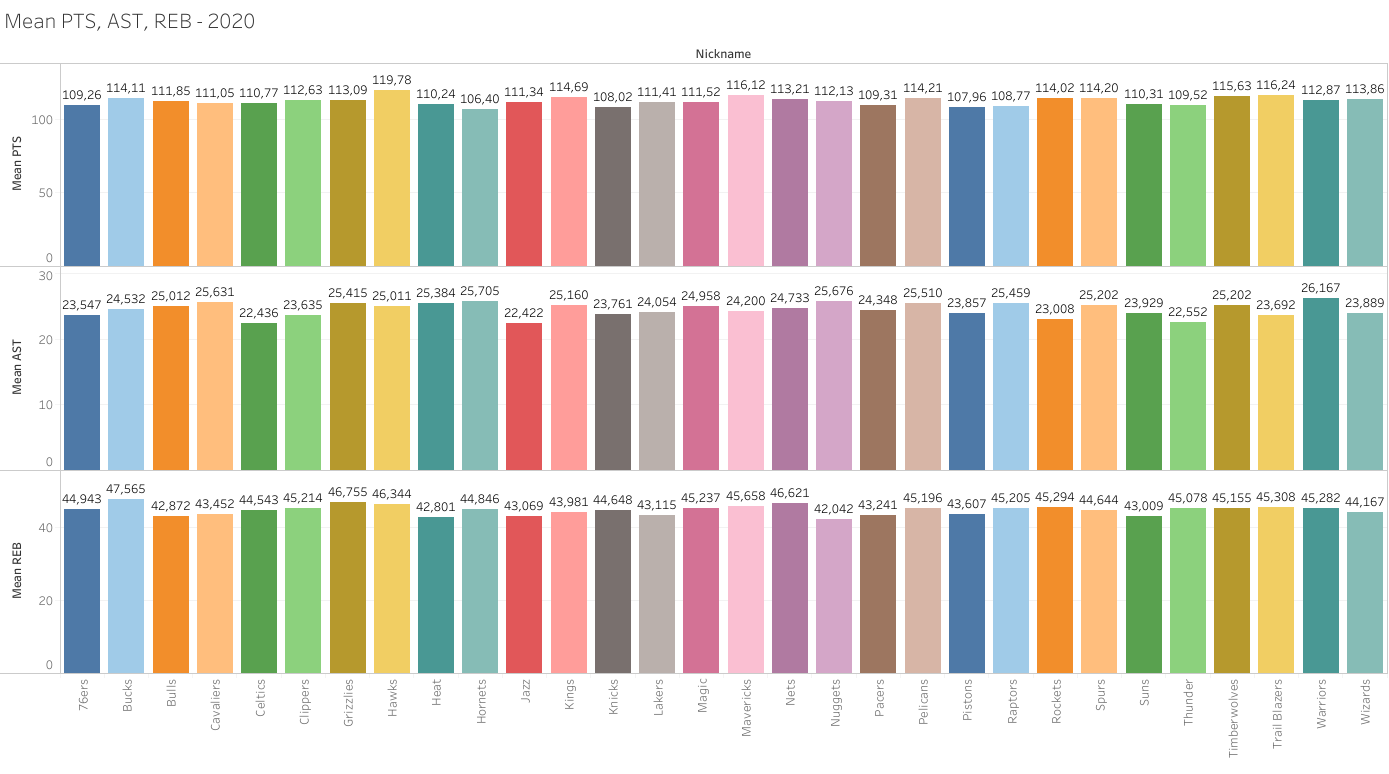

Layout of this report page (visuals, bound fields, positions):
{"tool":"tableau","page":{"name":"Dashboard 1","canvas":[1000,800],"ordinal":0},"visuals":[{"type":"currpage","title":"Mean PTS, AST, REB","box":[8,8,984,88]},{"type":"worksheet","title":"Mean PTS, AST, REB","mark":"Automatic","rows":["Mean PTS","Mean AST","Mean REB"],"cols":["NICKNAME"],"box":[8,96,984,696]}]}

Visuals, with their boxes on the page's 1000x800 design canvas (x1, y1, x2, y2). These are canvas units, not pixel positions in the 1389x774 screenshot, which may show the page scaled, cropped or inside an application window:
"Mean PTS, AST, REB" currpage: [x1=8, y1=8, x2=992, y2=96]
"Mean PTS, AST, REB" worksheet: [x1=8, y1=96, x2=992, y2=792]
